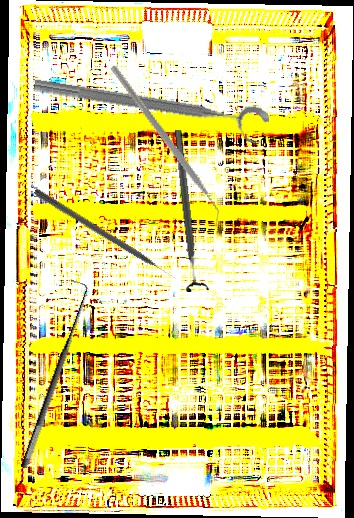Chopper: (69, 64, 260, 229)
Fixation Ring: (30, 71, 271, 148), (165, 128, 211, 293)
Hook Surgical: (5, 279, 96, 470)
Pusher: (32, 187, 178, 284)
